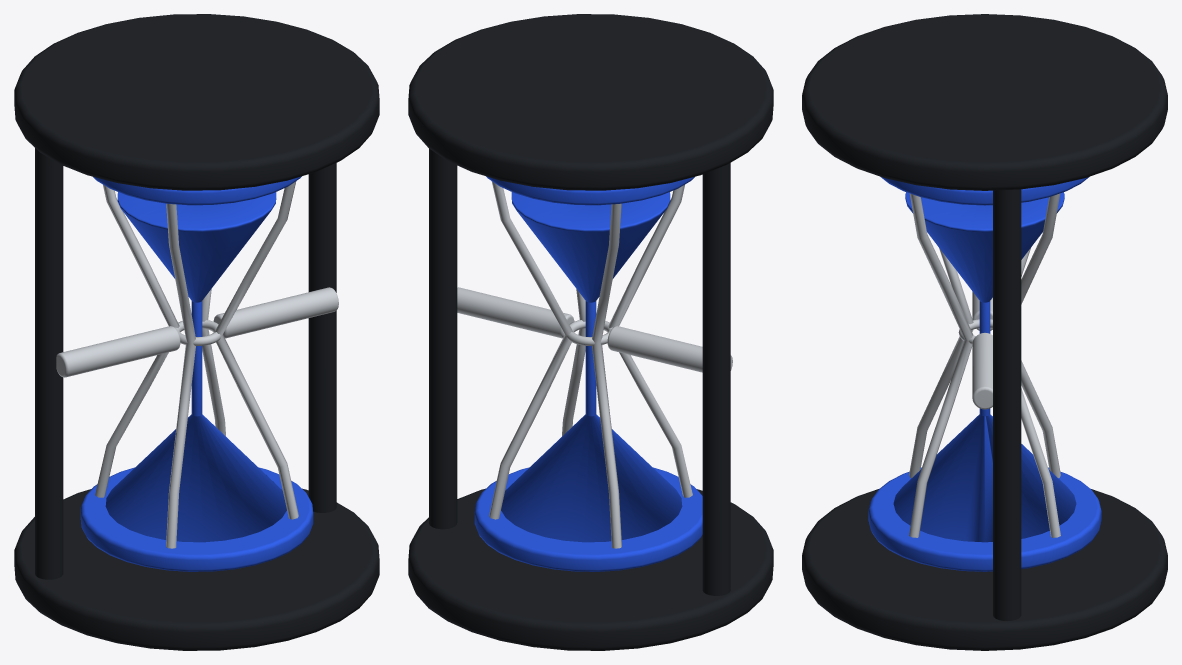
The model's file is pause.glb.
3 views of the same model, side by side, from view 1: azimuth 30°, elevation 25°; view 2: azimuth 150°, elevation 25°; view 3: azimuth 270°, elevation 25° (orthographic).
Parts seen in each view (by area): view 1: SM_ModelGeometry_LiftGraphite, SM_HourglassPivot_LiftCobalt, SM_HourglassPivot_LiftSilver, SM_ModelGeometry_LiftSilver; view 2: SM_ModelGeometry_LiftGraphite, SM_HourglassPivot_LiftCobalt, SM_HourglassPivot_LiftSilver, SM_ModelGeometry_LiftSilver; view 3: SM_ModelGeometry_LiftGraphite, SM_HourglassPivot_LiftCobalt, SM_HourglassPivot_LiftSilver, SM_ModelGeometry_LiftSilver.
Part boxes in pixels (left/top/right/bottom): SM_ModelGeometry_LiftGraphite: left=14, top=14, right=379, bottom=650; SM_HourglassPivot_LiftCobalt: left=80, top=176, right=313, bottom=571; SM_HourglassPivot_LiftSilver: left=95, top=181, right=298, bottom=548; SM_ModelGeometry_LiftSilver: left=56, top=287, right=338, bottom=377; SM_ModelGeometry_LiftGraphite: left=408, top=14, right=773, bottom=650; SM_HourglassPivot_LiftCobalt: left=474, top=176, right=702, bottom=571; SM_HourglassPivot_LiftSilver: left=489, top=181, right=692, bottom=548; SM_ModelGeometry_LiftSilver: left=457, top=287, right=732, bottom=372; SM_ModelGeometry_LiftGraphite: left=802, top=14, right=1167, bottom=650; SM_HourglassPivot_LiftCobalt: left=868, top=176, right=1101, bottom=571; SM_HourglassPivot_LiftSilver: left=909, top=193, right=1060, bottom=537; SM_ModelGeometry_LiftSilver: left=972, top=291, right=992, bottom=409.
Size of the model in its own units: 1.36 by 2 by 1.36.
